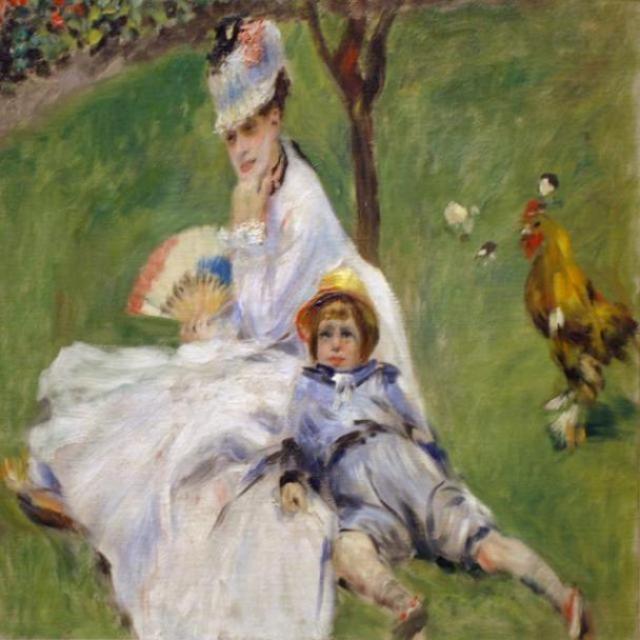Chicken: (519, 180, 619, 438)
